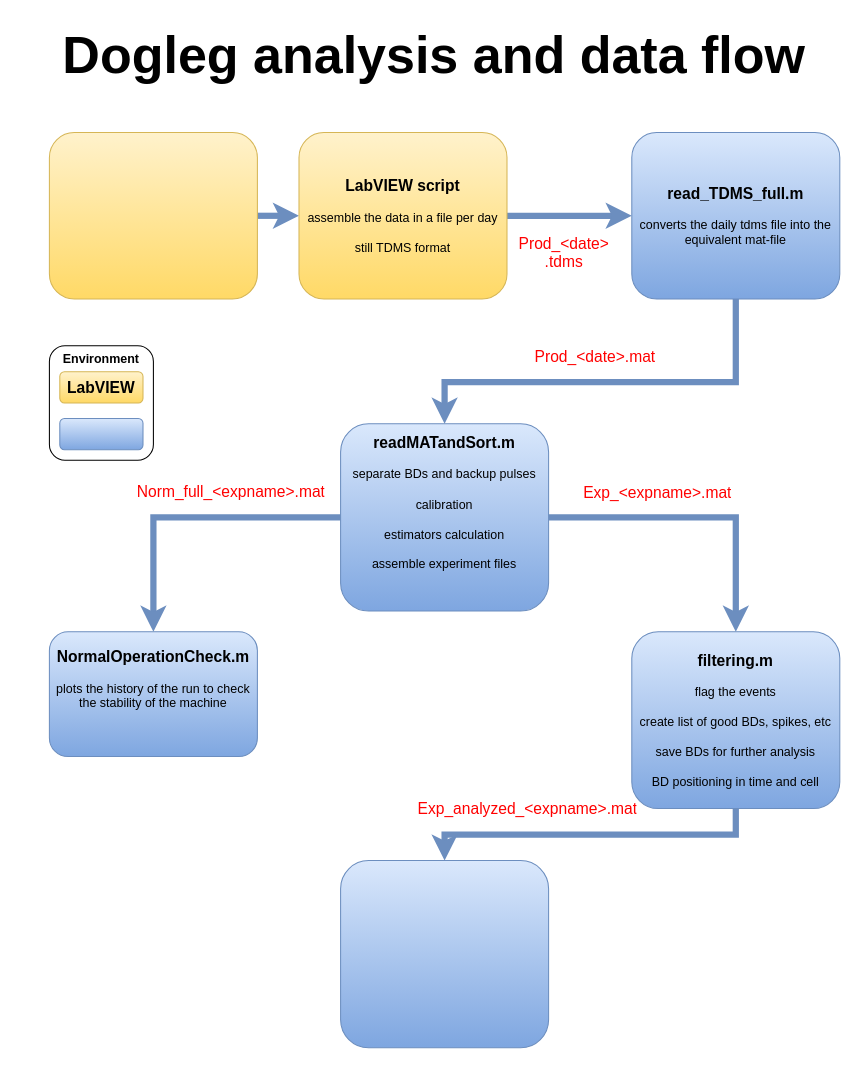
Image size: 867x1066. Some labels were removed from this diagram. Each missing label, with the centre of its shape:
"???.m" belongs at point 444,954.
"DAQ system - log files - bd files saved every 8 hours TDMS format" belongs at point 152,215.
"Matlab" belongs at point 101,434.
